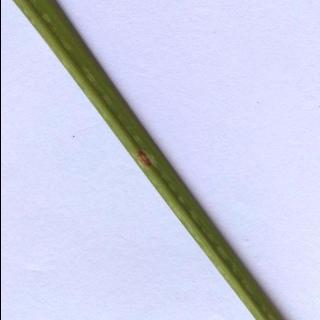Blast: (120, 133, 170, 181)
